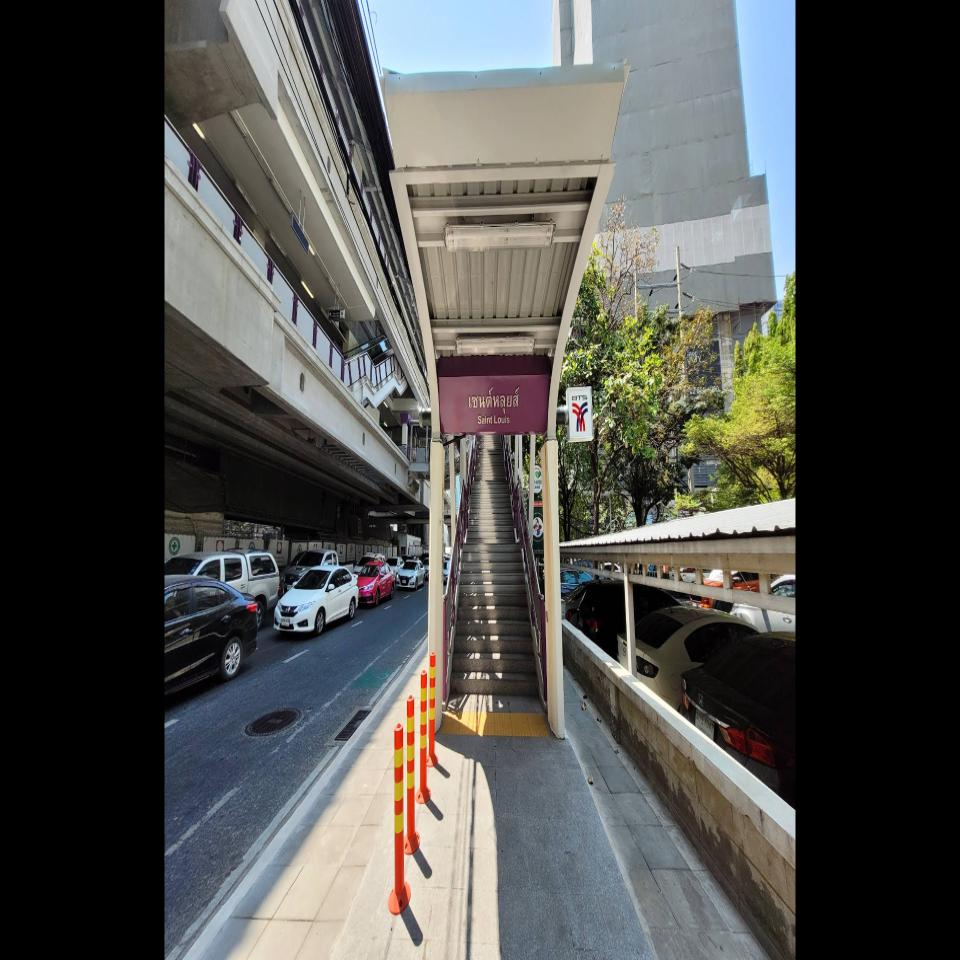signage: (439, 374, 593, 441), (438, 374, 550, 434)
